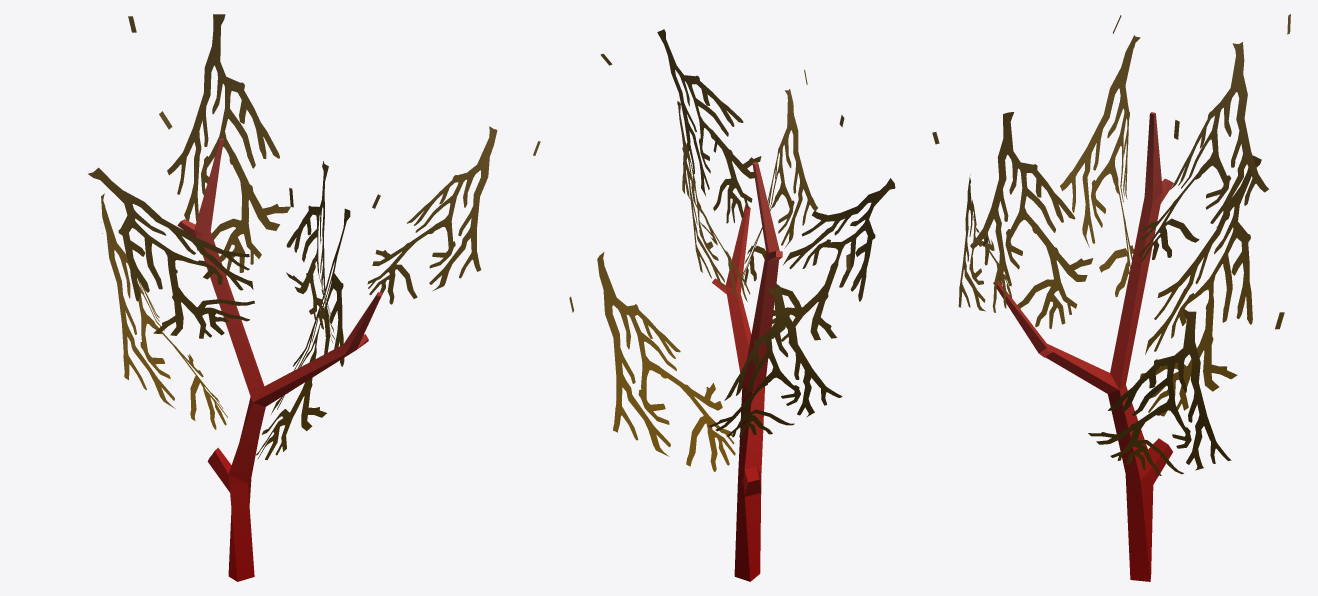
File: synty-tree-dead-03.gltf
3 views of the same model, side by side, from view 1: azimuth 30°, elevation 25°; view 2: azimuth 150°, elevation 25°; view 3: azimuth 270°, elevation 25° (orthographic). The views are drawn at different scales.
Visible parts, largest first — view 1: SM_Tree_Dead_03; view 2: SM_Tree_Dead_03; view 3: SM_Tree_Dead_03.
Boxes of the visible parts, bbox=[...] form: SM_Tree_Dead_03: bbox=[88, 14, 540, 581]; SM_Tree_Dead_03: bbox=[569, 29, 895, 581]; SM_Tree_Dead_03: bbox=[932, 14, 1290, 581].
Size of the model in its own units: 0.9904 by 1.23 by 0.7231.
Materials: 2 (2 with a texture image).
